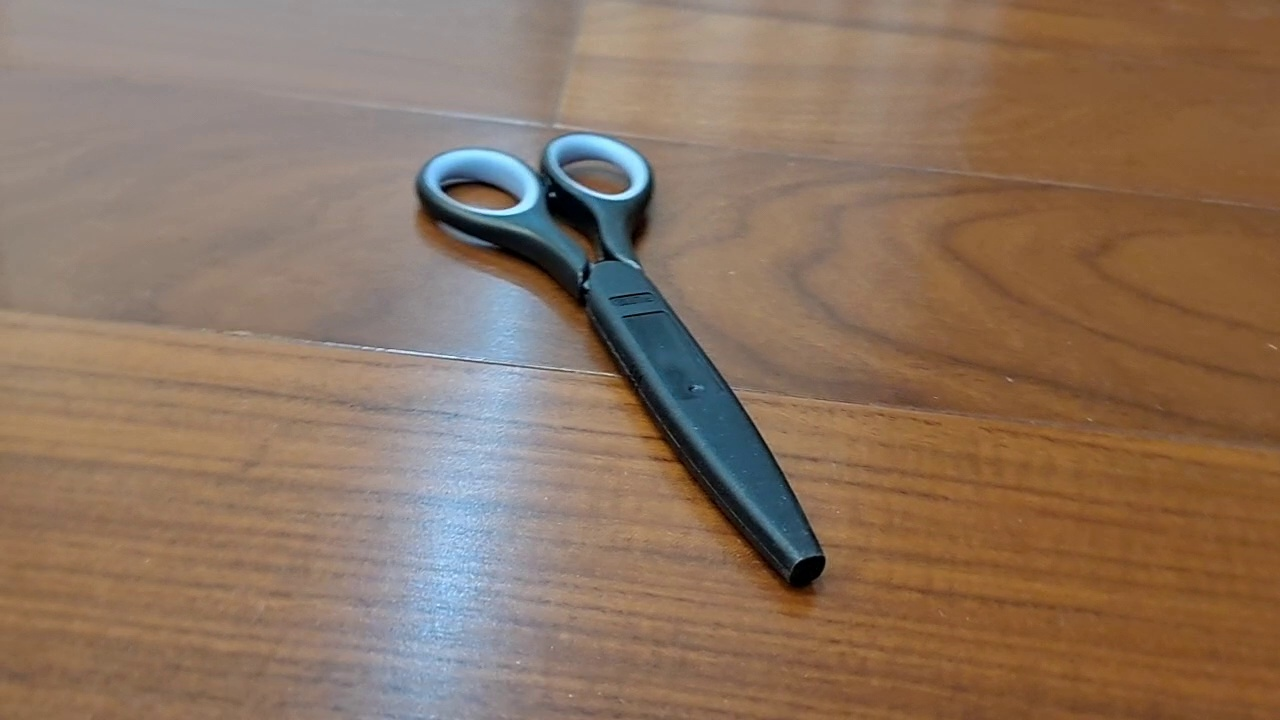scissors: (412, 129, 827, 590)
